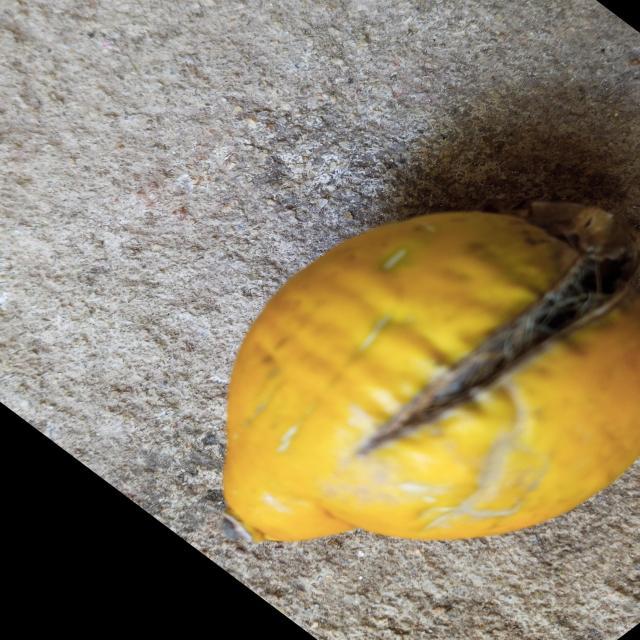damaged: (221, 209, 640, 546)
